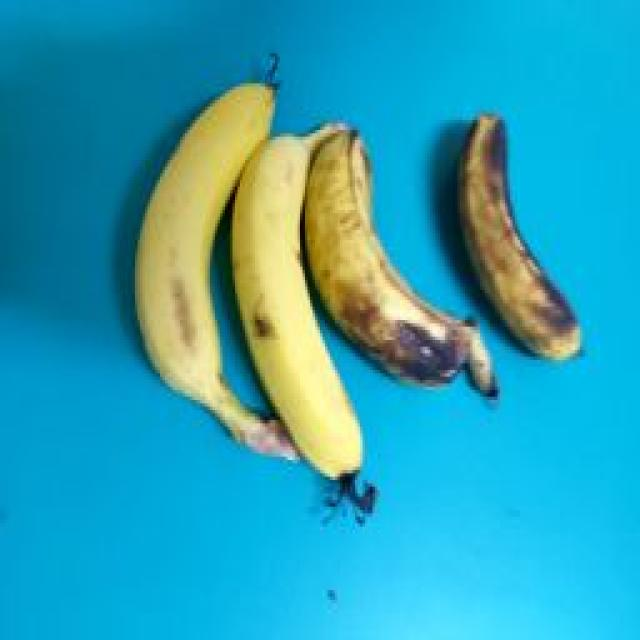Organik: (110, 38, 271, 467), (212, 106, 367, 507), (303, 107, 472, 425), (433, 107, 580, 355)
